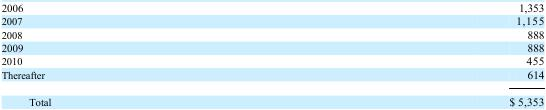table: (0, 1, 543, 107)
table column: (0, 1, 279, 107), (279, 1, 543, 107)
table row: (0, 67, 543, 87), (0, 87, 543, 107), (0, 53, 543, 67), (0, 1, 543, 14), (0, 14, 543, 27), (0, 27, 543, 40), (0, 40, 543, 53)
